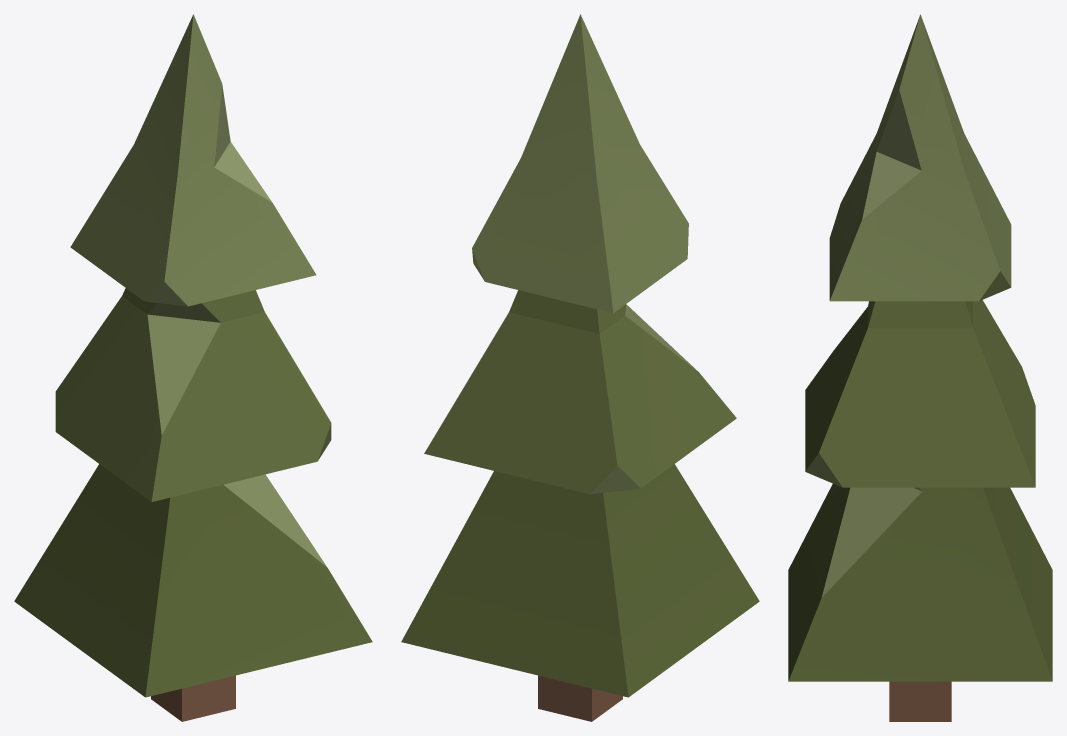
Rendered from fir_tree_27.fbx.
The picture shows the model from 3 angles, left to right: view 1: azimuth 30°, elevation 25°; view 2: azimuth 150°, elevation 25°; view 3: azimuth 270°, elevation 25°; orthographic projection.
Parts seen in each view (by area): view 1: fir_tree_27; view 2: fir_tree_27; view 3: fir_tree_27.
Part boxes in pixels (left/top/right/bottom): fir_tree_27: left=14, top=14, right=372, bottom=721; fir_tree_27: left=401, top=14, right=759, bottom=721; fir_tree_27: left=788, top=14, right=1052, bottom=721.
Bounding box in the file's own units: 172 × 500 × 172.
